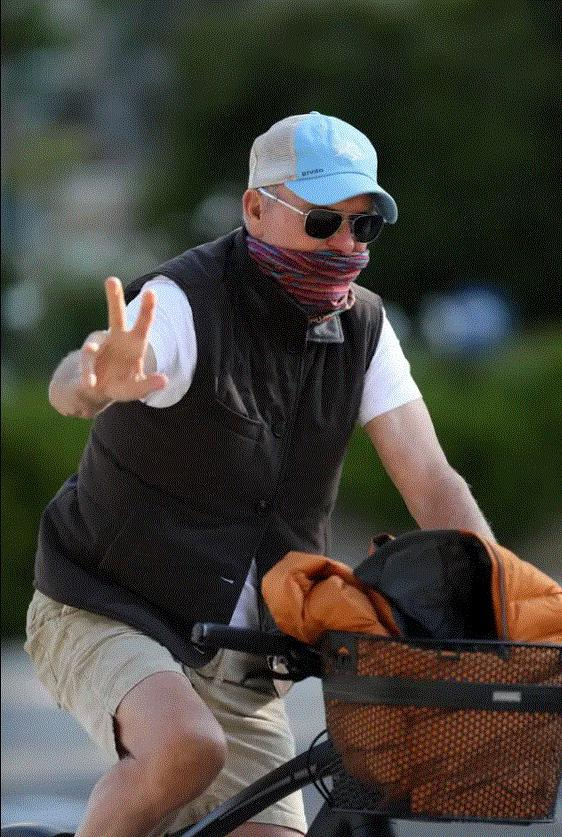mask_weared_incorrect: (251, 209, 387, 287)
